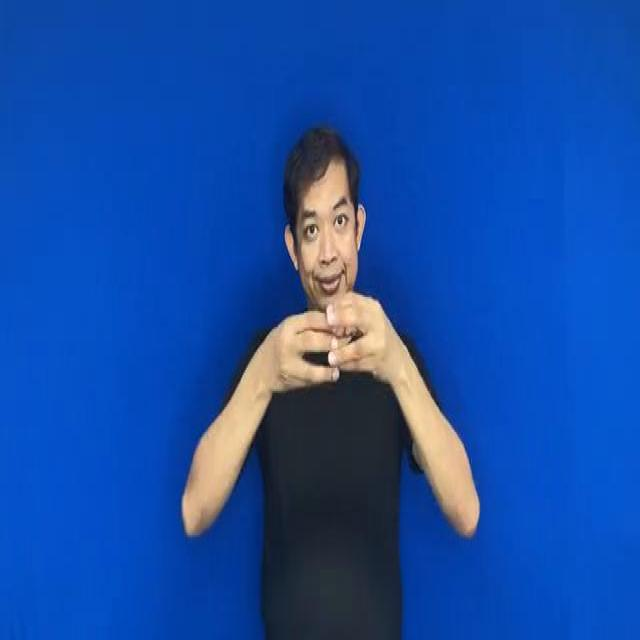egg: (262, 285, 402, 415)
